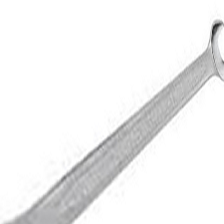Wrench: (10, 20, 224, 224)
